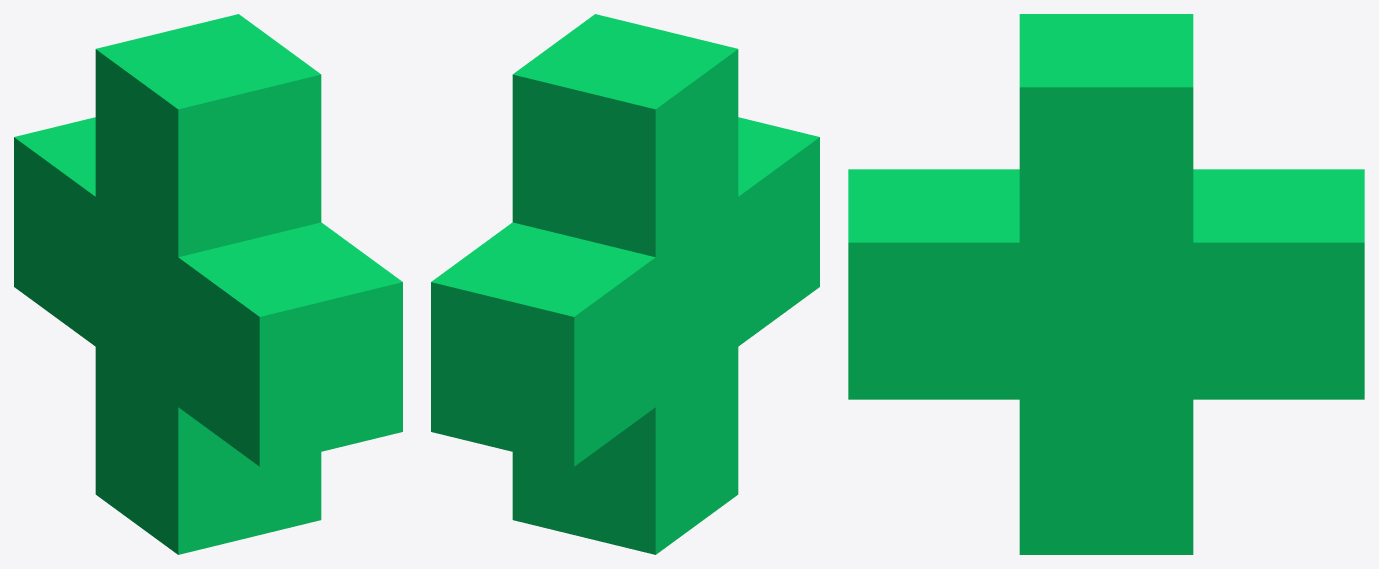
The model's file is HealModel.fbx.
3 views of the same model, side by side, from view 1: azimuth 30°, elevation 25°; view 2: azimuth 150°, elevation 25°; view 3: azimuth 270°, elevation 25° (orthographic). The views are drawn at different scales.
Parts seen in each view (by area): view 1: Cube.001; view 2: Cube.001; view 3: Cube.001.
Part boxes in pixels (x1=…): Cube.001: x1=14, y1=14, x2=402, y2=554; Cube.001: x1=431, y1=14, x2=819, y2=554; Cube.001: x1=848, y1=14, x2=1364, y2=554.
Size of the model in its own units: 200 by 595 by 595.
